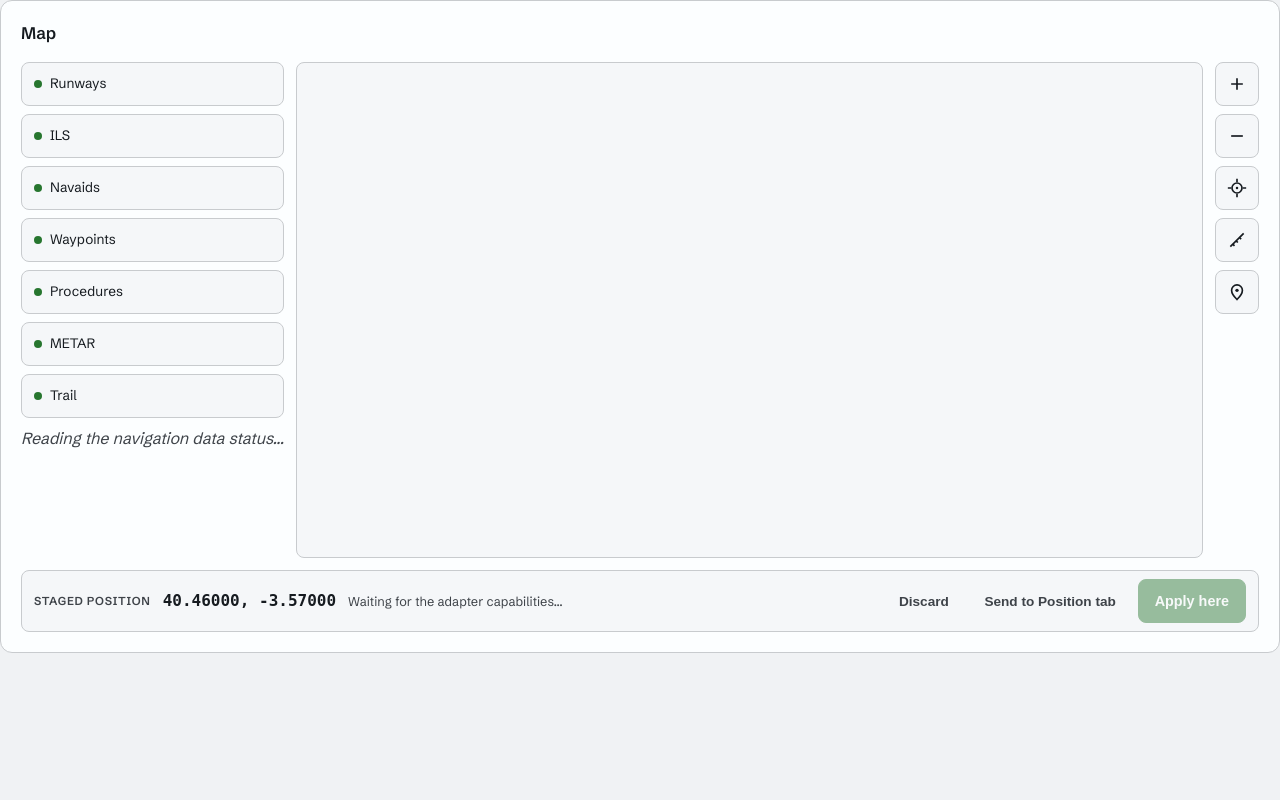
Test: MapPanel › discard clears the staged position without leaving the map
What coordinates should you click on to do the following:
click the button "Discard"
I would click on:
 (924, 601)
Its box is left=885, top=579, right=963, bottom=623.
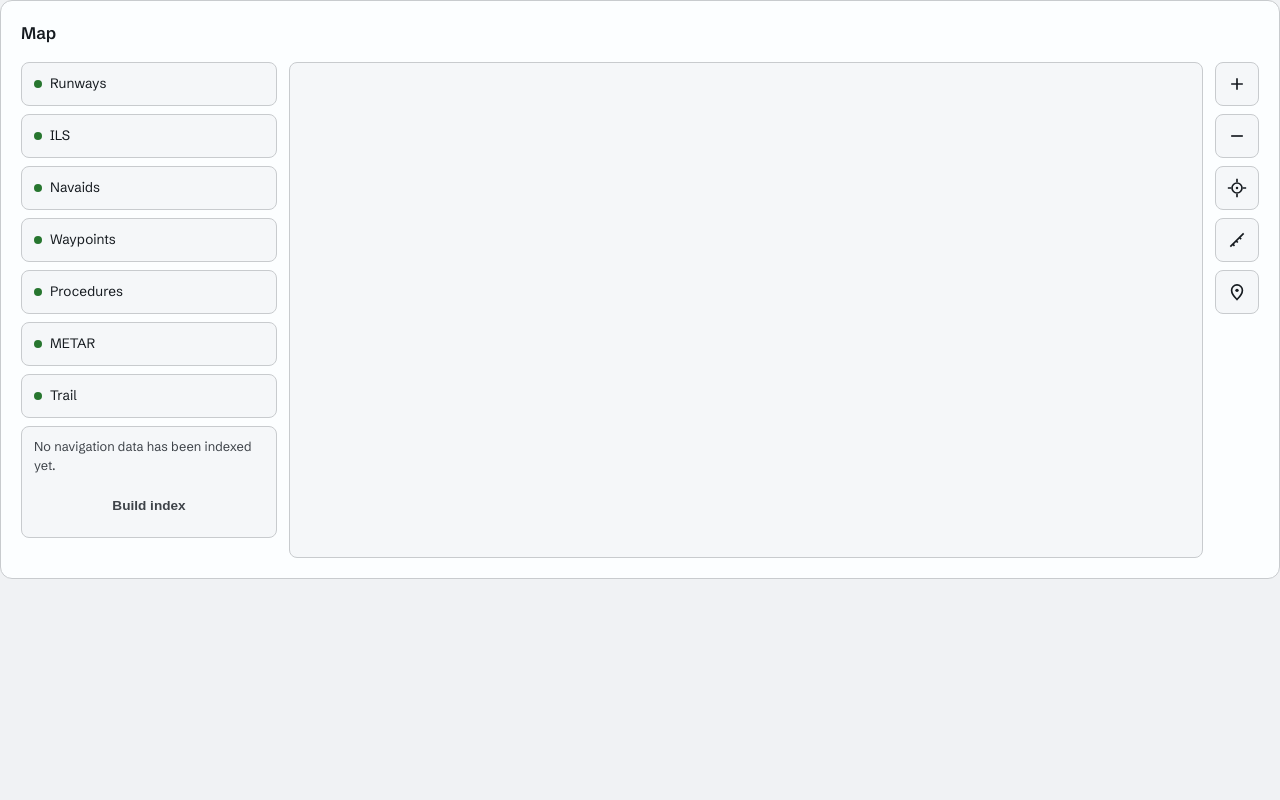
Check: the text "No navigation data has been indexed yet." is shown, box left=34, top=437, right=264, bottom=475
